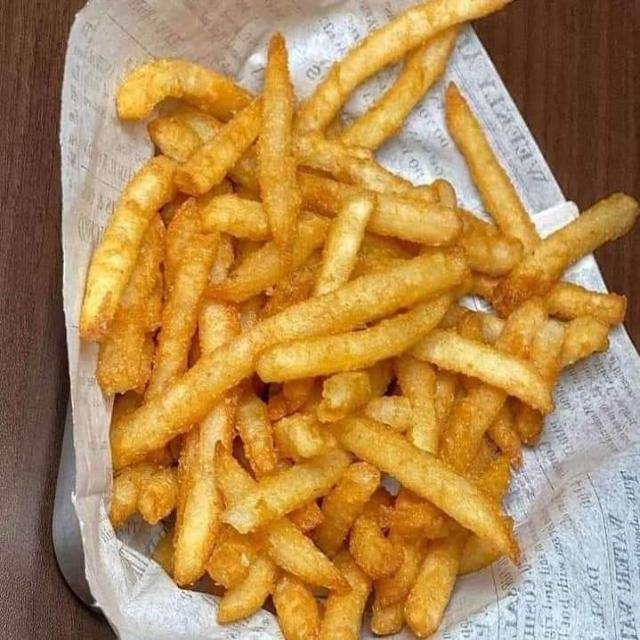potato fries: (81, 0, 638, 639), (111, 253, 466, 469), (297, 0, 508, 130), (330, 418, 518, 559), (493, 194, 639, 315), (81, 157, 175, 340), (257, 296, 450, 381), (446, 84, 539, 250), (340, 28, 456, 149), (97, 216, 164, 394), (174, 392, 236, 584), (146, 235, 218, 398), (412, 330, 553, 413), (223, 450, 349, 533), (259, 34, 300, 265), (175, 100, 261, 195), (117, 59, 251, 119), (295, 133, 412, 193), (405, 532, 466, 637), (314, 195, 376, 295), (314, 463, 380, 556), (264, 518, 348, 590), (268, 519, 348, 591), (442, 385, 506, 472), (367, 193, 461, 245), (316, 361, 392, 422), (396, 355, 441, 454), (320, 552, 371, 639), (210, 241, 282, 302), (374, 527, 426, 611), (110, 464, 177, 528), (458, 211, 522, 276), (147, 109, 222, 162), (261, 251, 321, 317), (218, 556, 277, 623), (164, 199, 202, 295), (236, 392, 277, 478), (546, 282, 626, 325), (349, 516, 403, 579), (110, 464, 160, 529), (391, 487, 452, 539), (207, 526, 259, 587), (201, 195, 270, 240), (273, 576, 320, 639), (275, 414, 336, 460), (560, 317, 608, 368), (138, 468, 178, 524), (530, 321, 565, 385), (487, 404, 522, 467), (363, 396, 414, 432), (459, 535, 501, 575), (363, 485, 393, 531), (434, 371, 457, 425), (371, 600, 405, 635), (289, 501, 324, 533), (152, 531, 173, 576)
